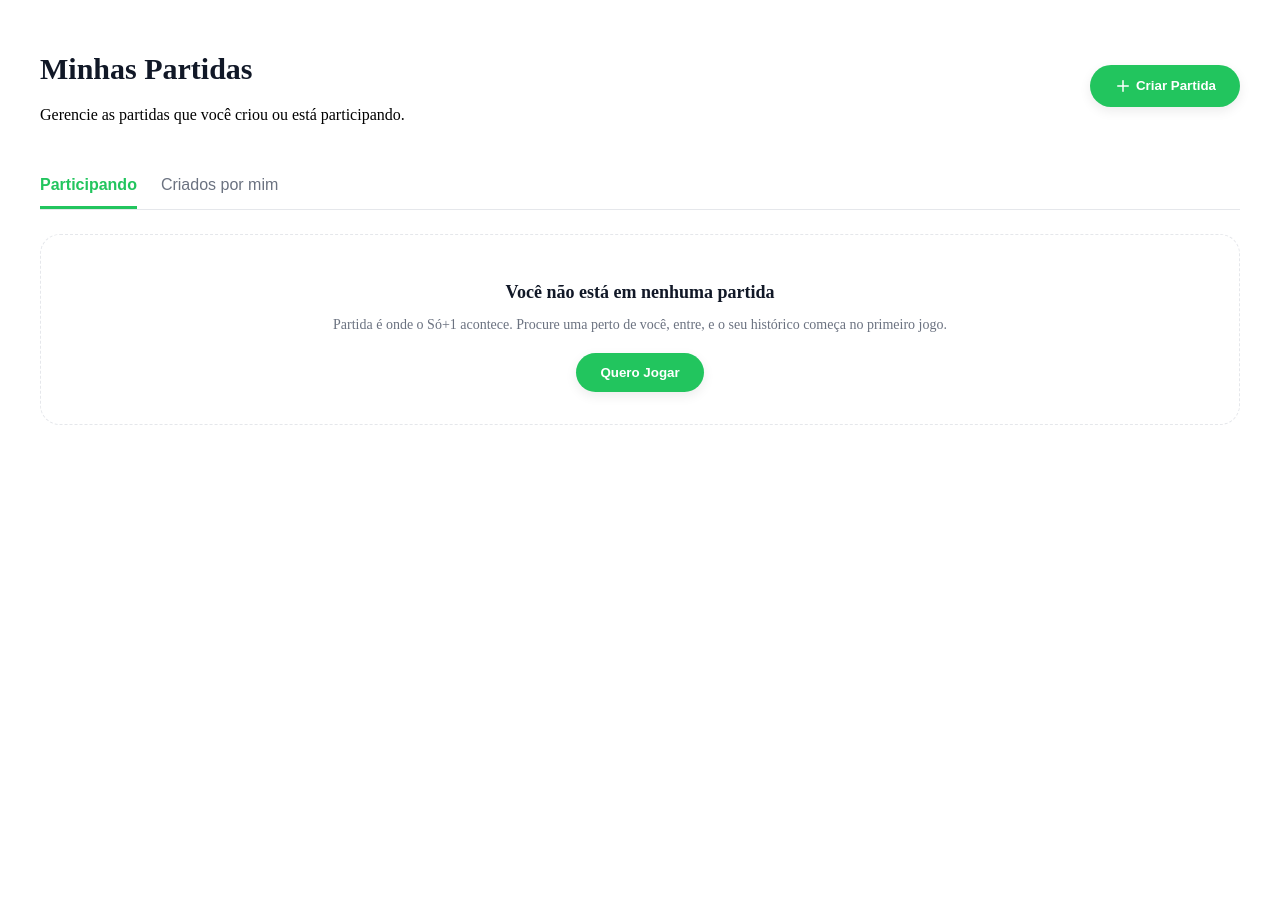
it: MinhasPartidas — ações de organizador › os controles do cartão não levam para o detalhe da partida
Click the button "Criados por mim". click: coordinates (220, 187)
box: [161,164,278,209]
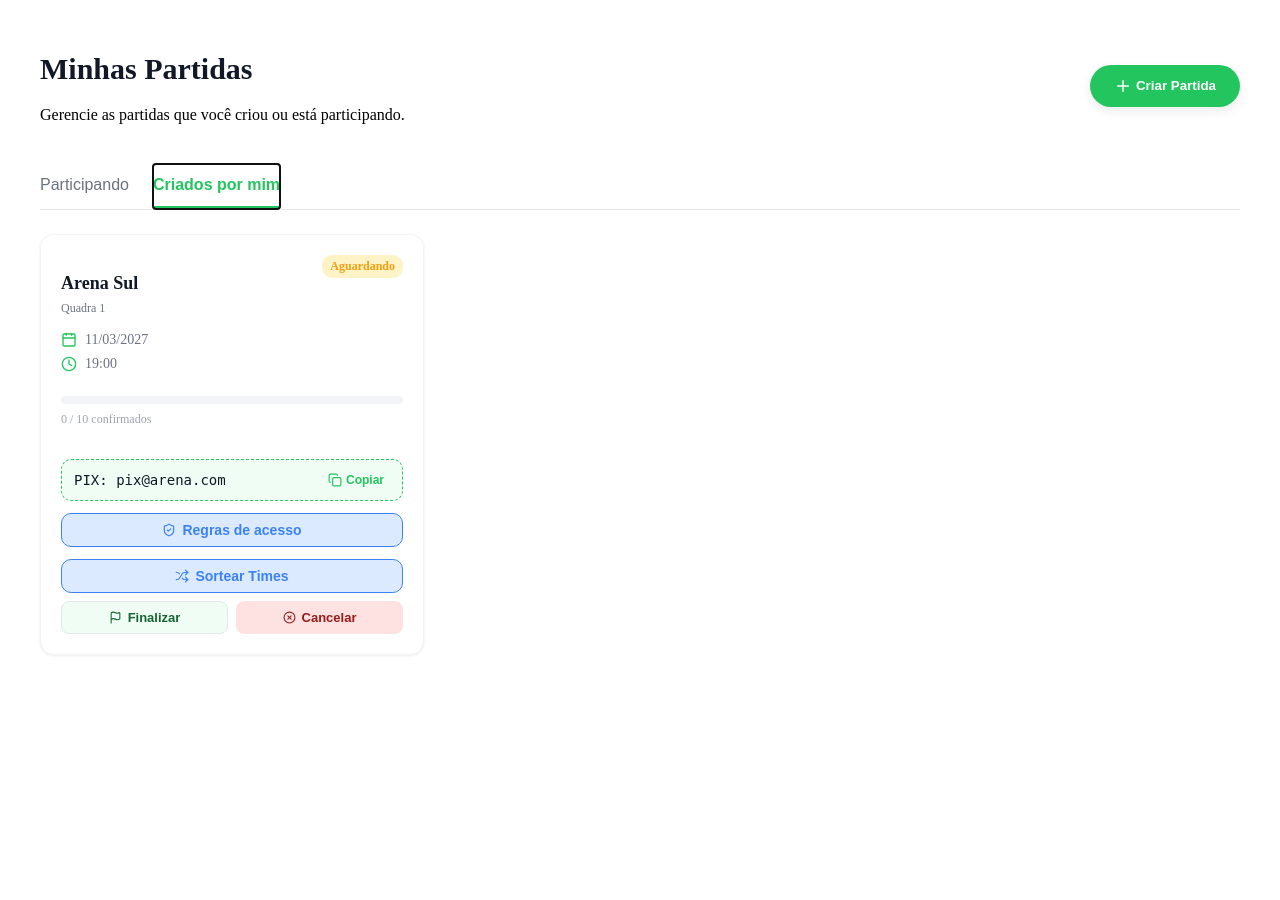
Expected: the heading "Arena Sul" is shown, [61,273,138,294]
Click the button "Copiar". click: coordinates (356, 480)
box: [322,472,390,488]
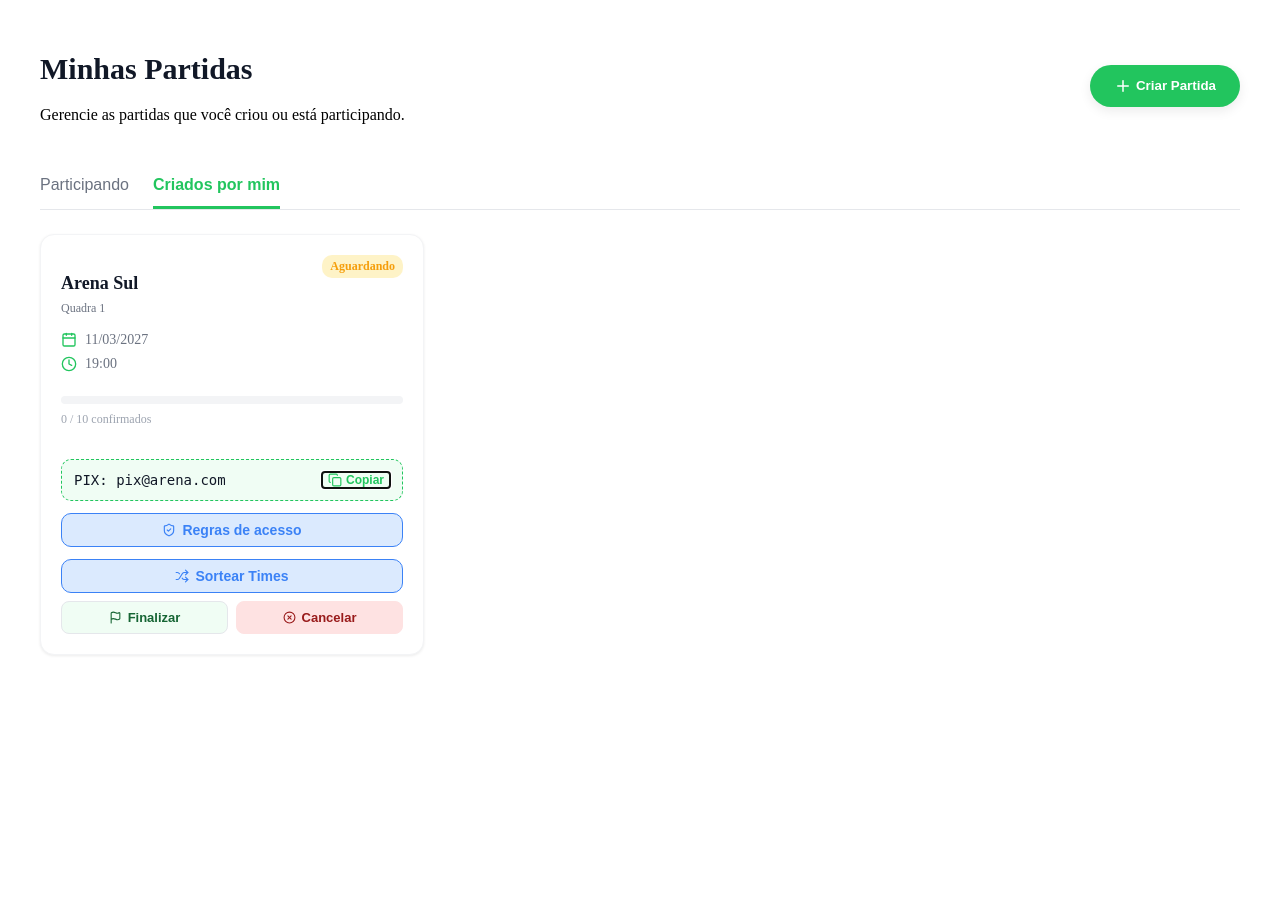
Click the button "Finalizar". click: coordinates (144, 618)
box: [61,601,228,634]
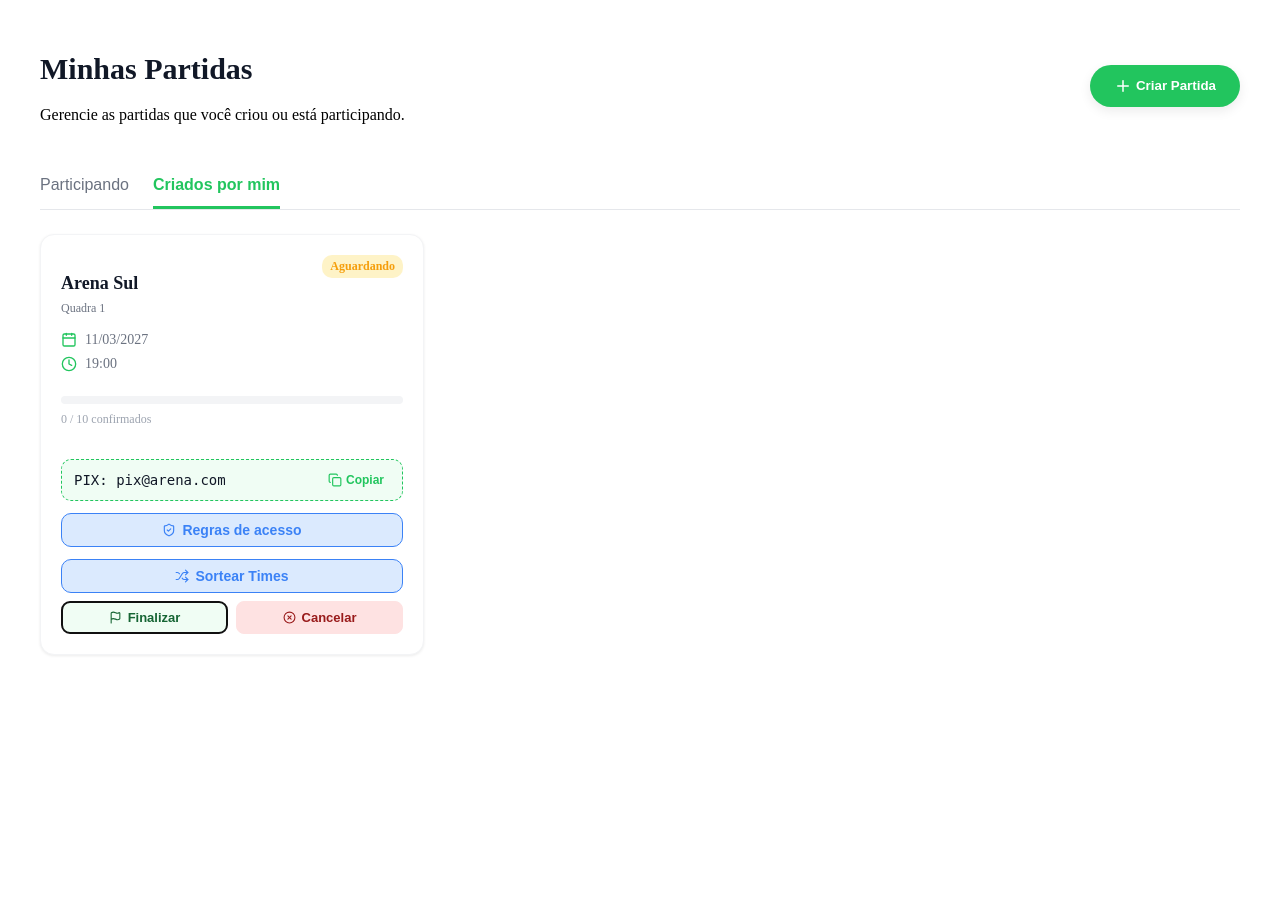
Click the button "Cancelar". click: coordinates (320, 618)
box: [236,601,403,634]
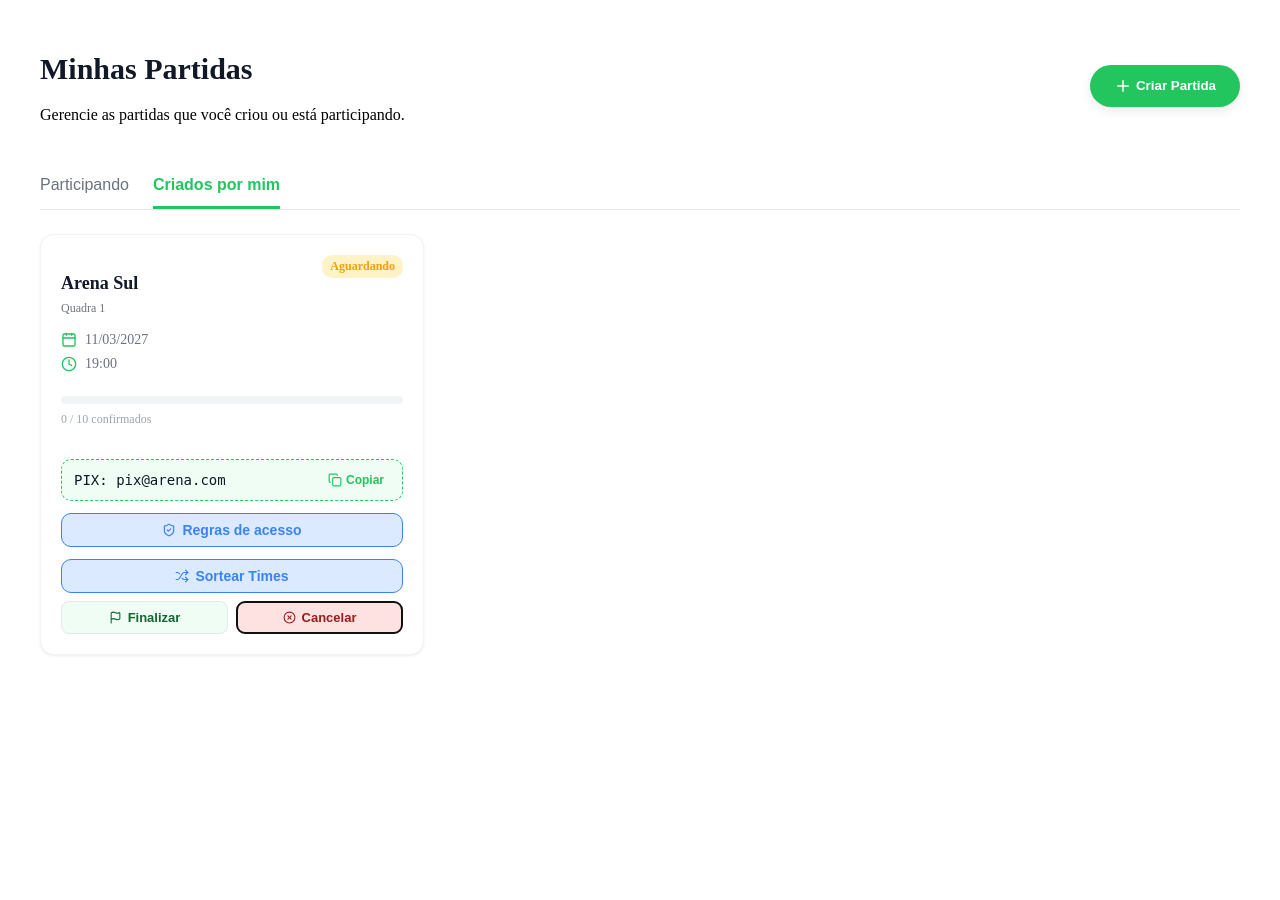
Click the button "Sortear Times". click: coordinates (232, 576)
box: [61,559,403,593]
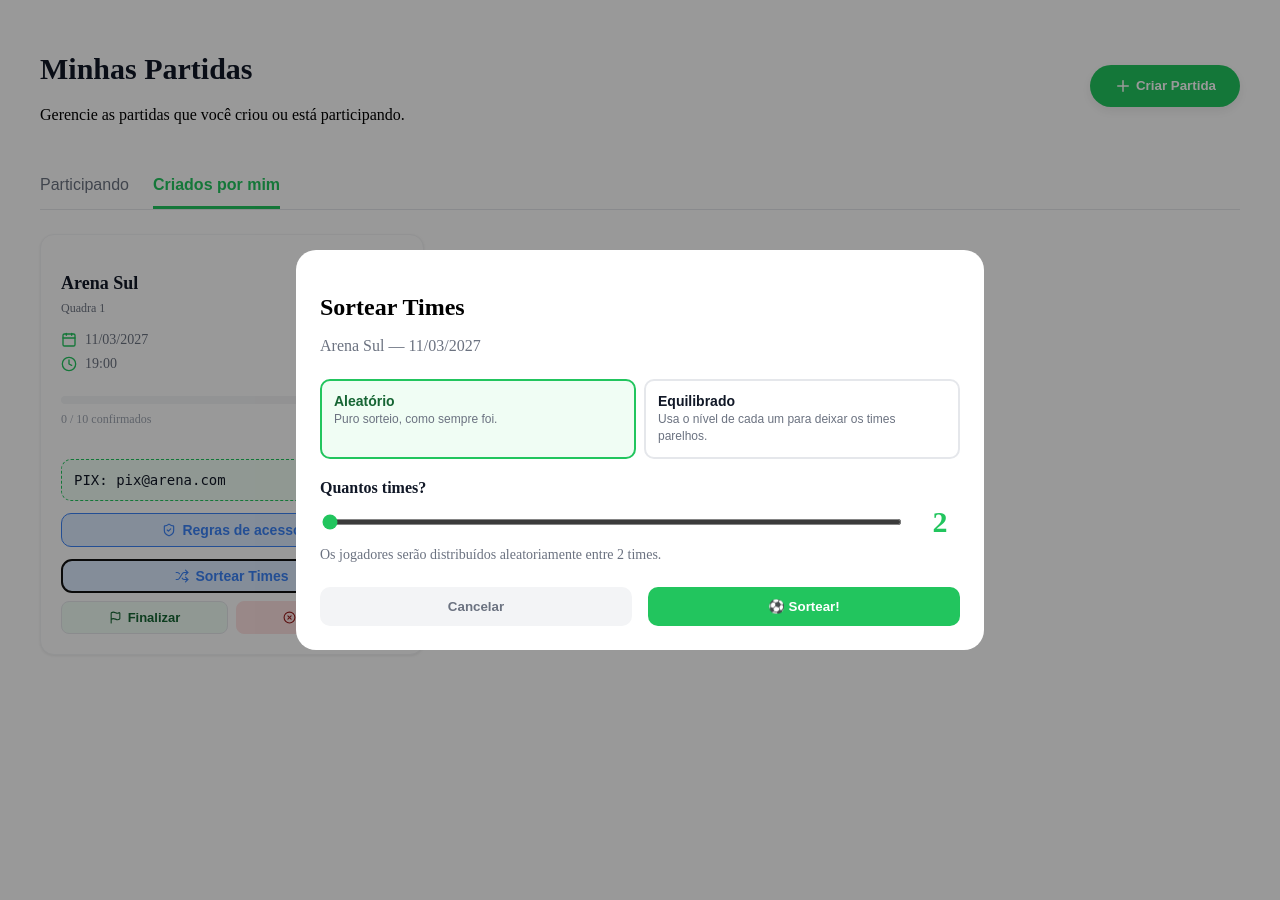
Expected: the heading "Sortear Times" is shown, [320,294,465,320]
